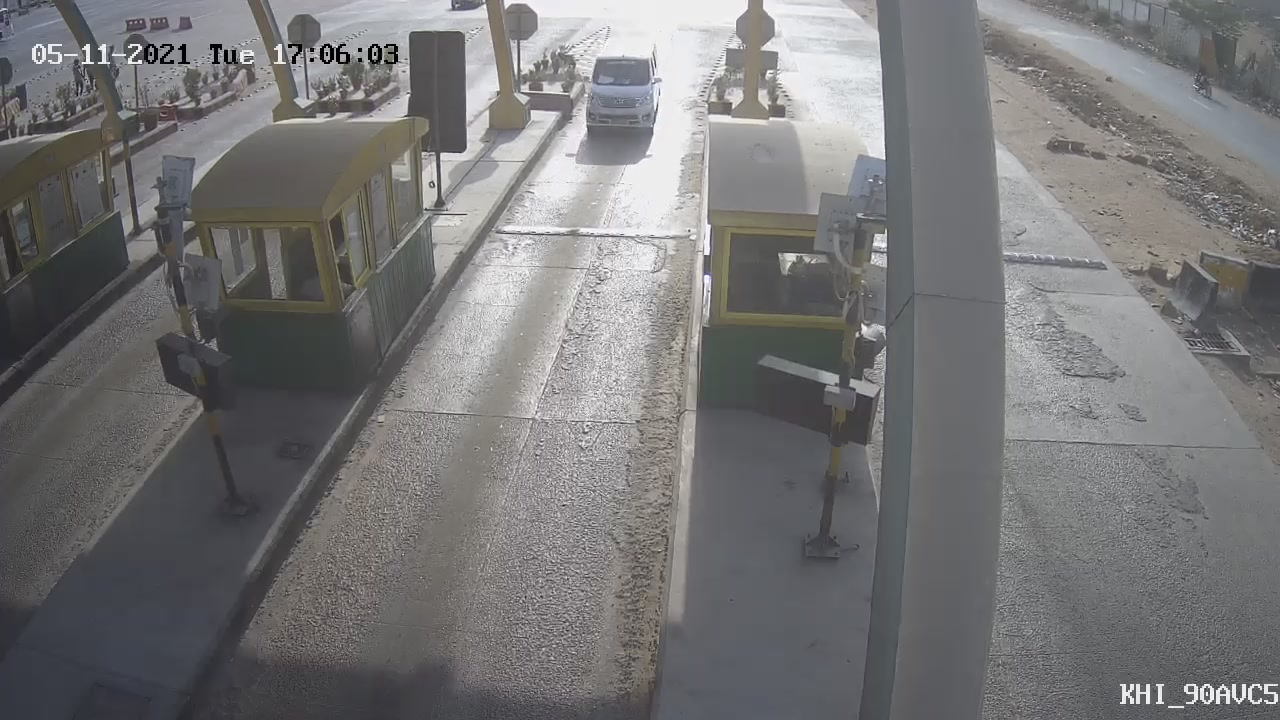F1: (564, 25, 676, 153)
